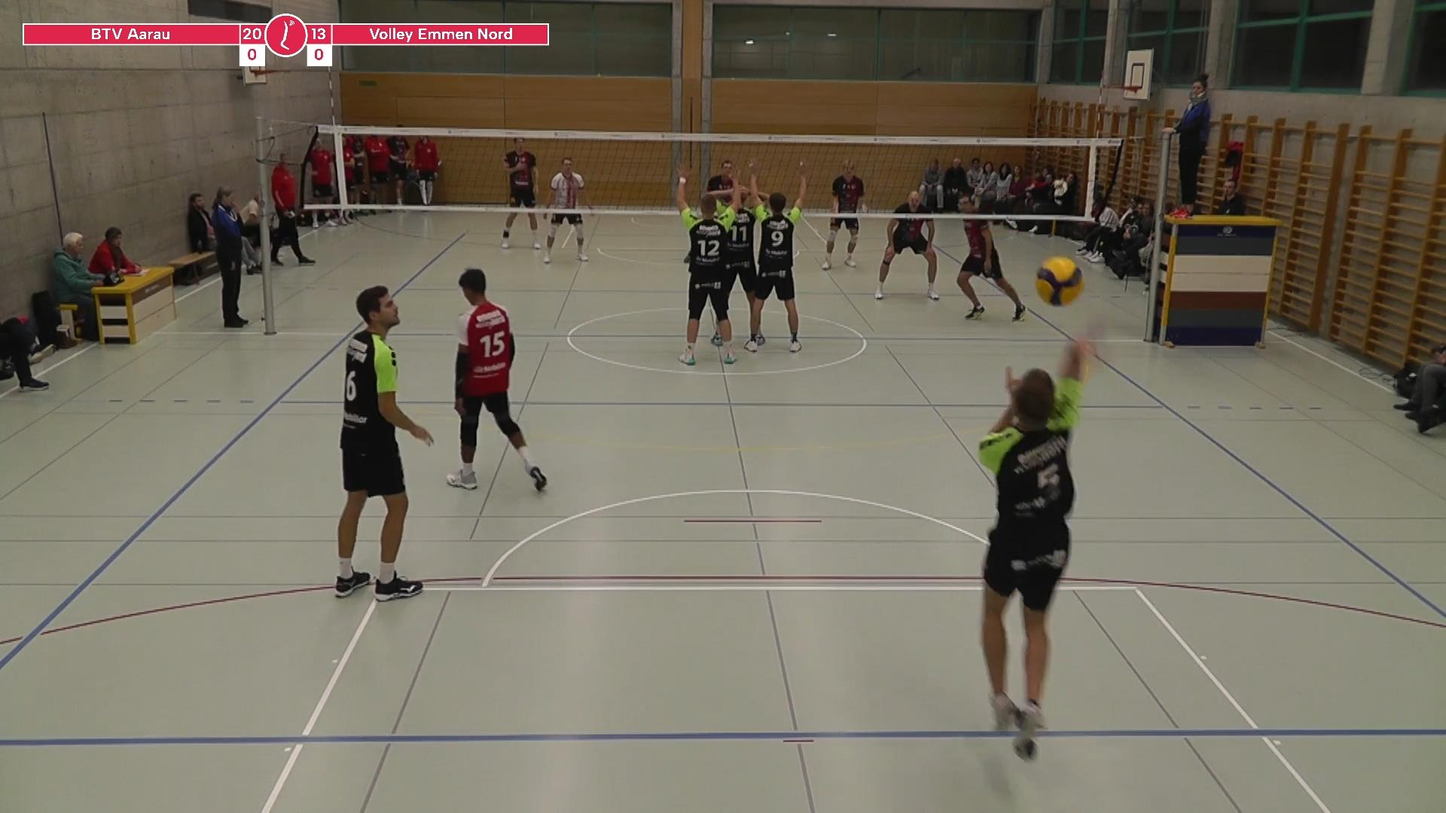battuta: (973, 322, 1111, 770)
